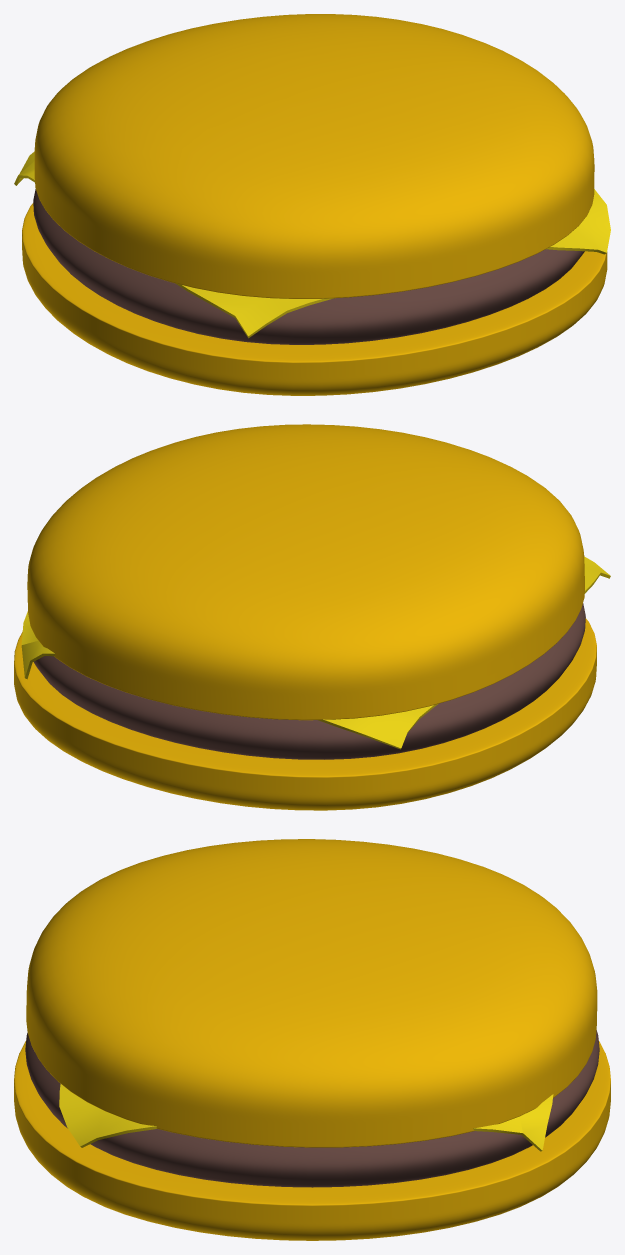
Rendered from hamburger.glb.
3 renders of one model, top to bottom at view 1: azimuth 30°, elevation 25°; view 2: azimuth 150°, elevation 25°; view 3: azimuth 270°, elevation 25°, orthographic. The views are drawn at different scales.
Parts seen in each view (by area): view 1: Cube.002, Cube, Cube.001, Plane; view 2: Cube.002, Cube, Cube.001, Plane; view 3: Cube.002, Cube, Cube.001, Plane.
Part boxes in pixels (x1,y1,x2,y2): Cube.002: [34, 14, 594, 298]; Cube: [22, 203, 607, 395]; Cube.001: [33, 189, 584, 344]; Plane: [14, 151, 610, 338]; Cube.002: [27, 424, 584, 720]; Cube: [14, 618, 596, 810]; Cube.001: [34, 603, 585, 759]; Plane: [21, 556, 610, 749]; Cube.002: [26, 839, 597, 1147]; Cube: [14, 1040, 610, 1240]; Cube.001: [25, 1030, 599, 1187]; Plane: [59, 1084, 553, 1151].
Size of the model in its own units: 8.98 by 3.75 by 8.98.
